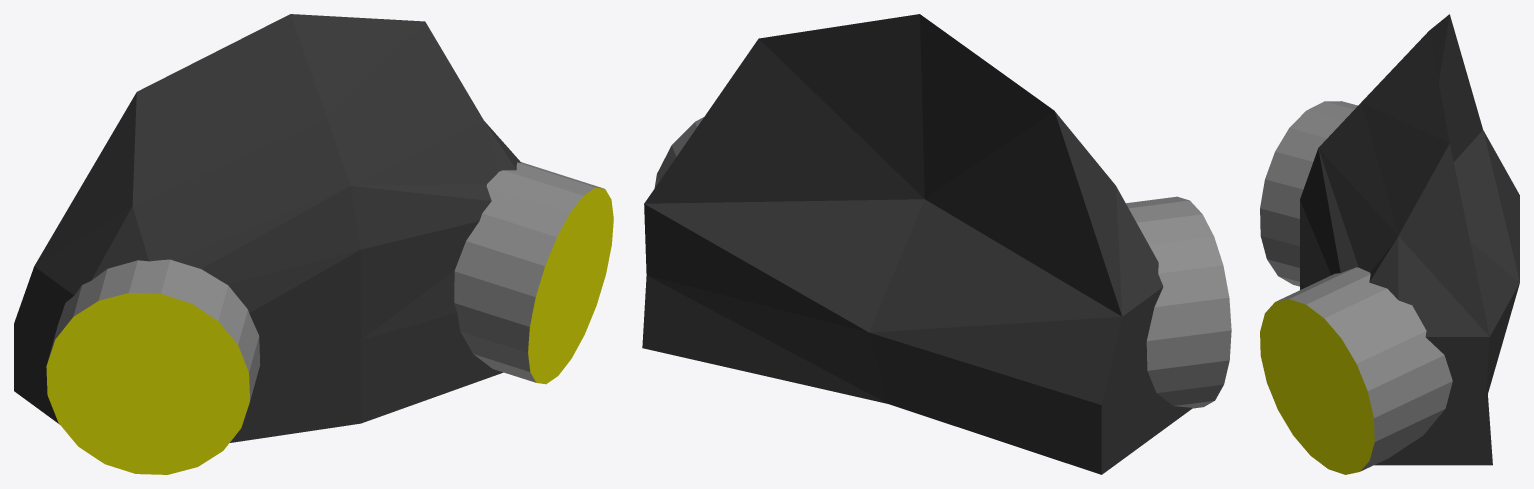
Rendered from Gas_Mask.fbx.
The picture shows the model from 3 angles, left to right: view 1: azimuth 30°, elevation 25°; view 2: azimuth 150°, elevation 25°; view 3: azimuth 270°, elevation 25°; orthographic projection. The views are drawn at different scales.
Parts seen in each view (by area): view 1: GasMask; view 2: GasMask; view 3: GasMask.
Boxes of the visible parts, <box> form: GasMask: <box>14,14,613,474</box>; GasMask: <box>642,14,1231,474</box>; GasMask: <box>1260,14,1519,474</box>.
Size of the model in its own units: 19.95 by 12.6 by 8.65.
